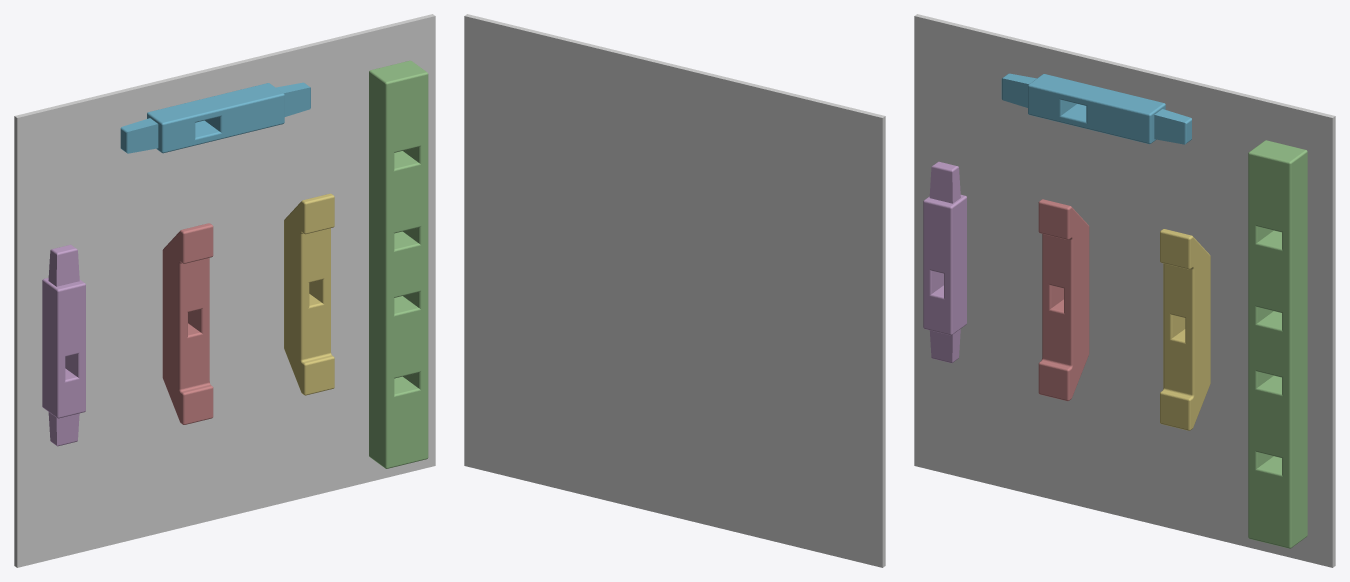
File: pickup_layout.glb
3 renders of one model, left to right at view 1: azimuth 30°, elevation 25°; view 2: azimuth 150°, elevation 25°; view 3: azimuth 330°, elevation 25°, orthographic.
Parts seen in each view (by area): view 1: world, 6.obj, 0.obj, 1.obj, 3.obj, 2.obj; view 2: world; view 3: world, 6.obj, 0.obj, 1.obj, 3.obj, 2.obj.
Part boxes in pixels (x1=…): world: x1=14, y1=14, x2=435, y2=567; 6.obj: x1=369, y1=60, x2=428, y2=468; 0.obj: x1=162, y1=223, x2=213, y2=424; 1.obj: x1=284, y1=193, x2=334, y2=395; 3.obj: x1=42, y1=244, x2=85, y2=446; 2.obj: x1=120, y1=82, x2=310, y2=153; world: x1=464, y1=14, x2=885, y2=567; world: x1=914, y1=14, x2=1335, y2=567; 6.obj: x1=1248, y1=140, x2=1307, y2=548; 0.obj: x1=1038, y1=199, x2=1089, y2=401; 1.obj: x1=1160, y1=229, x2=1210, y2=430; 3.obj: x1=923, y1=161, x2=966, y2=363; 2.obj: x1=1001, y1=73, x2=1191, y2=144.
Size of the model in its own units: 17.24 by 17.72 by 1.72.
